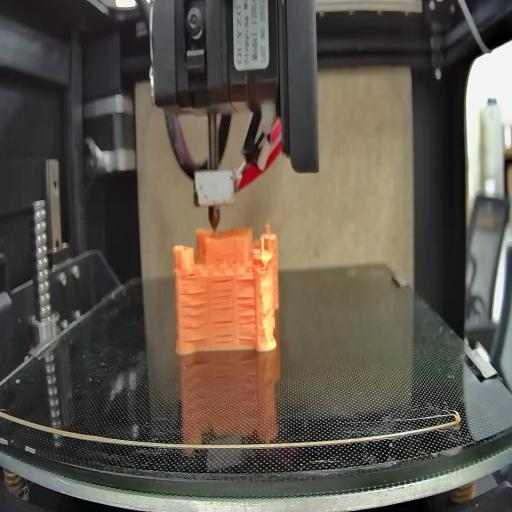cracks: (211, 276, 235, 346), (180, 289, 210, 343), (235, 293, 257, 343), (237, 272, 256, 282)
